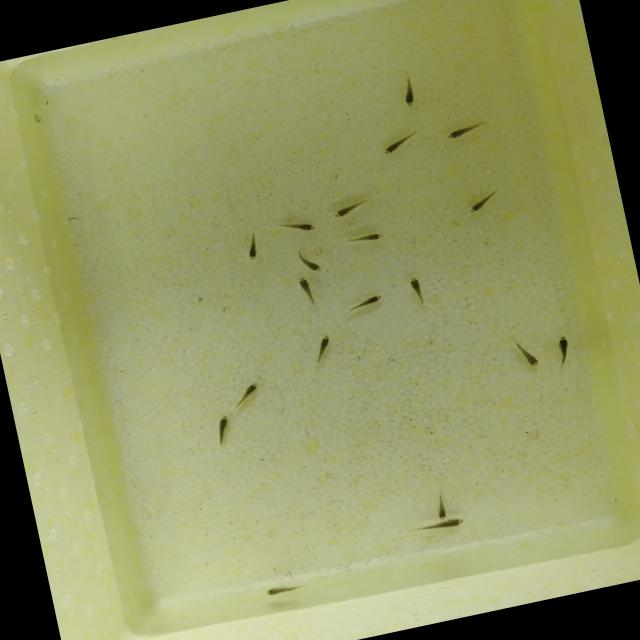fingerling: (373, 124, 430, 158), (408, 513, 468, 538), (338, 288, 388, 318), (508, 334, 544, 375), (326, 193, 376, 221), (226, 378, 266, 412), (548, 330, 578, 374), (442, 118, 492, 144), (274, 212, 319, 240), (462, 186, 504, 215), (291, 274, 323, 312), (206, 412, 236, 452), (258, 576, 307, 600), (340, 226, 388, 250), (307, 331, 338, 368), (292, 242, 324, 276), (405, 272, 432, 312), (396, 68, 421, 111), (241, 226, 266, 264), (430, 490, 452, 518)
